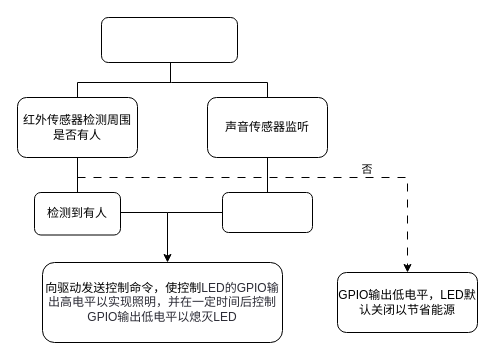
Image size: 495x360. Some labels were removed from this diagram. Each missing label, with the centre of its shape:
"两个传感器持续工作" belongs at pixel 169 39.
"有声音" belongs at pixel 267 212.
